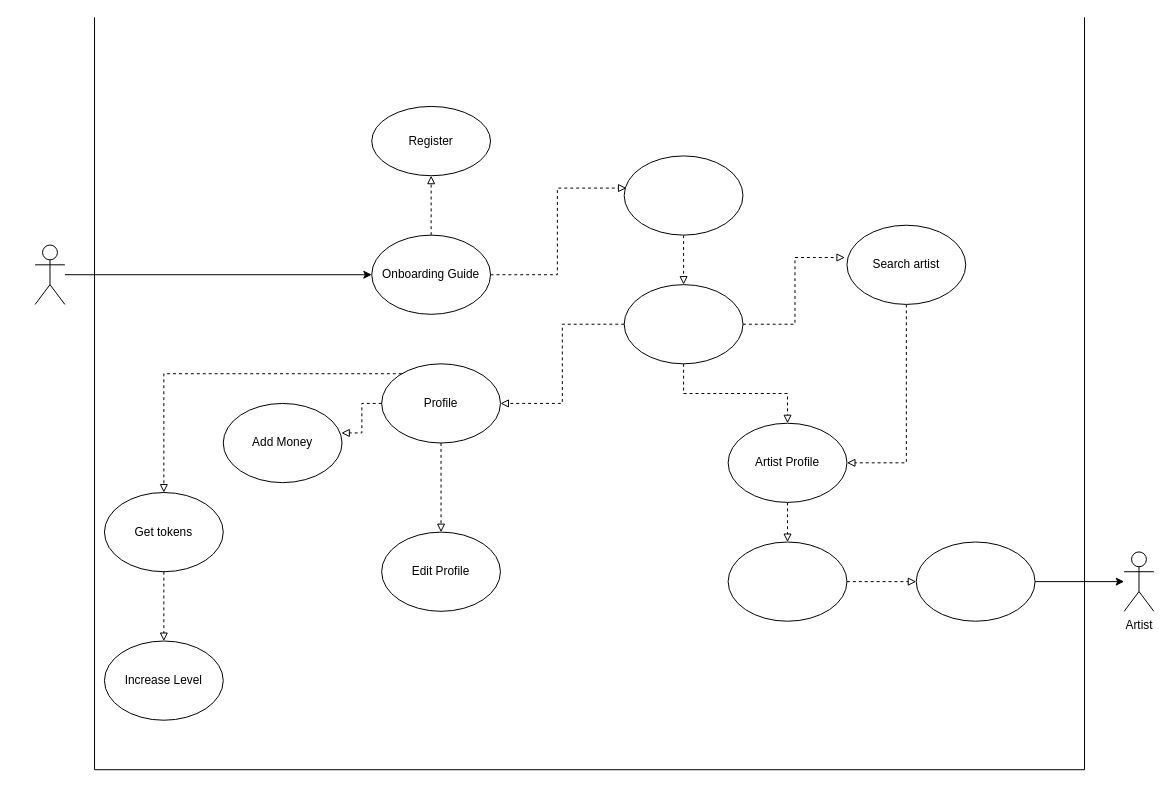
The diagram is 1171 pixels wide and 788 high, and some of its shapes have lost their labels. Each missing label, with the centre of its shape:
"Chat" belongs at (787,581).
"Home page" belongs at (683,324).
"Login" belongs at (683,195).
"Message" belongs at (975,581).
"Normal User" belongs at (49,274).
